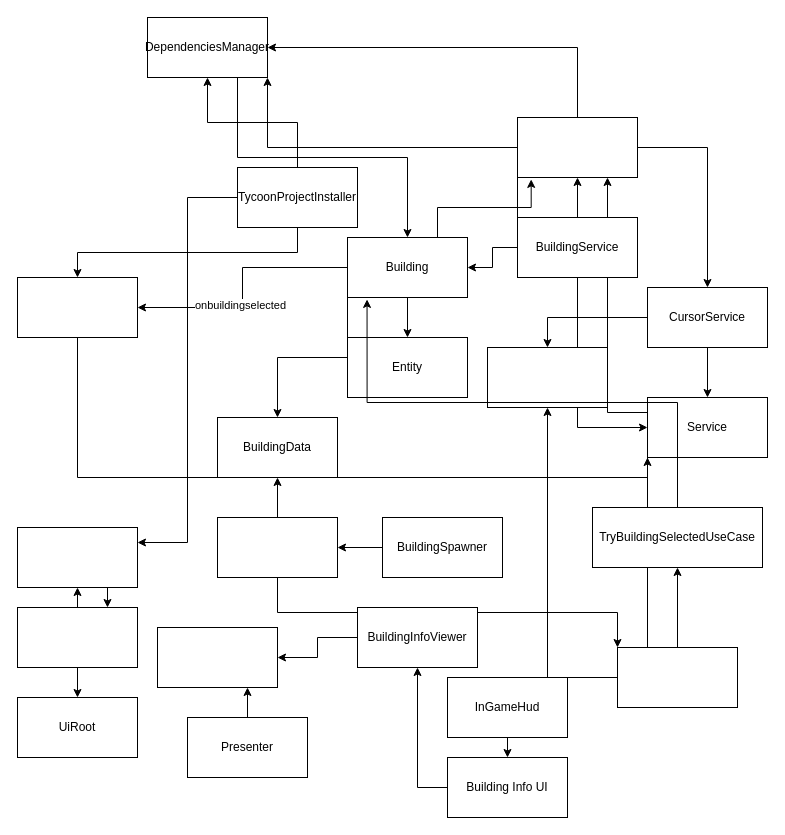
The diagram is 785 pixels wide and 835 high, and some of its shapes have lost their labels. Each missing label, with the centre of its shape:
BuildingSO: point (277, 547)
BuildingViewver: point (677, 677)
Buliding Info UID Presenter: point (217, 657)
CursorDetectable: point (547, 377)
EventBus: point (77, 307)
InGameInstaller: point (577, 147)
UIDocument: point (77, 637)
UIService: point (77, 557)
